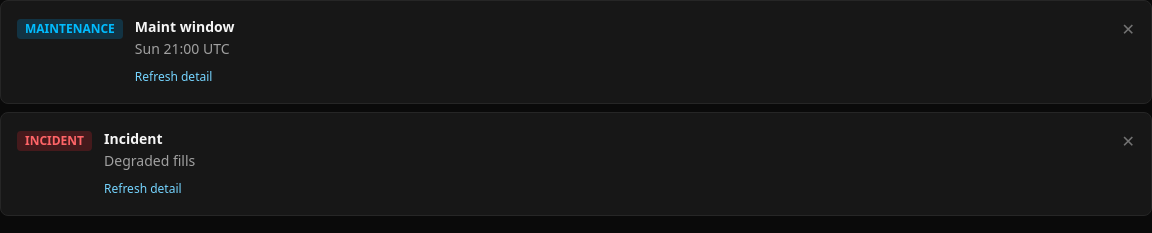
Test: AnnouncementsPanel › renders, grades by category, and dismiss persists to storage
Check: the heading "Maint window" is shown, box x1=135 y1=17 x2=234 y2=36
Check: the text "INCIDENT" is shown, box x1=17 y1=131 x2=92 y2=151
Step 1. Click the button named "Dismiss announcement Maint window" → (1128, 29), box x1=1122 y1=17 x2=1135 y2=41
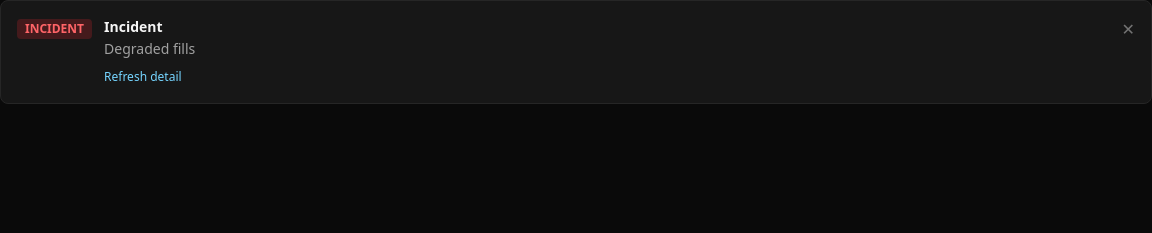
Check: the heading "Maint window" is gone
